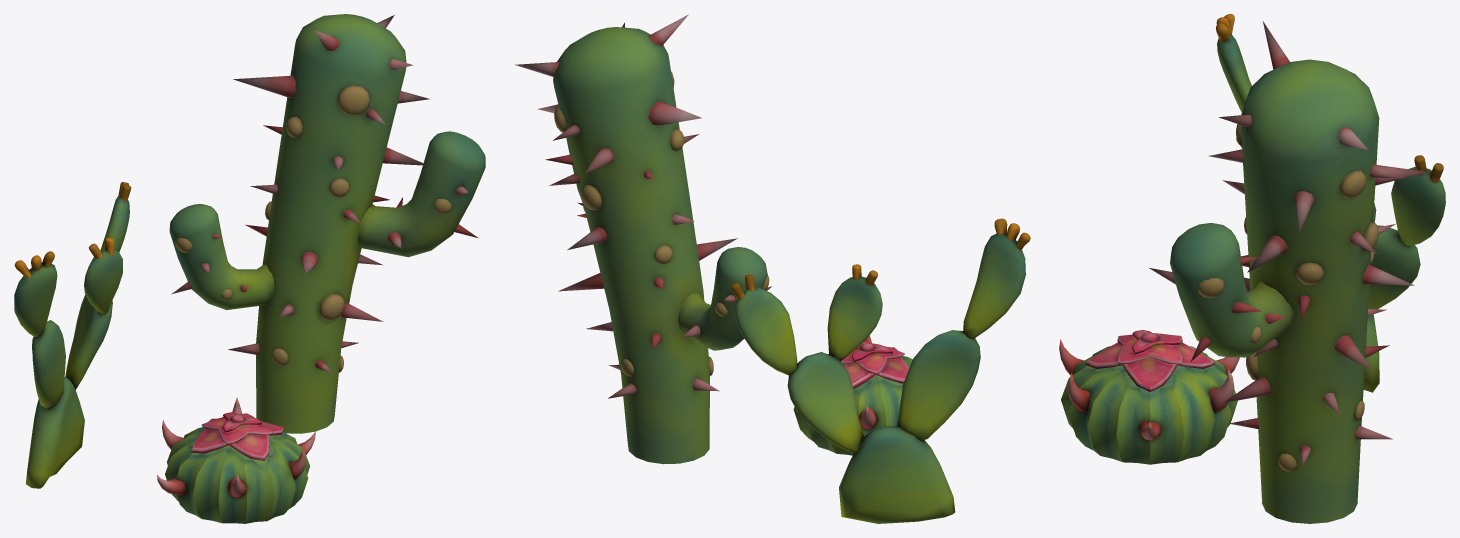
Rendered from stylized_cactus.glb.
3 renders of one model, left to right at view 1: azimuth 30°, elevation 25°; view 2: azimuth 150°, elevation 25°; view 3: azimuth 270°, elevation 25°, orthographic. The views are drawn at different scales.
Visible parts, largest first — view 1: Sphere001, Group32591, Sphere002; view 2: Sphere001, Group32591, Sphere002; view 3: Sphere001, Sphere002, Group32591.
Part boxes in pixels (bbox=[...]): Sphere001: bbox=[169, 14, 485, 433]; Group32591: bbox=[14, 182, 131, 488]; Sphere002: bbox=[157, 397, 315, 523]; Sphere001: bbox=[515, 14, 771, 464]; Group32591: bbox=[730, 218, 1030, 523]; Sphere002: bbox=[793, 335, 912, 455]; Sphere001: bbox=[1148, 21, 1427, 523]; Sphere002: bbox=[1059, 330, 1239, 464]; Group32591: bbox=[1216, 14, 1445, 392].
Bounding box in the file's own units: 2 × 1.7 × 1.22.
Materials: 3 (3 with a texture image).
